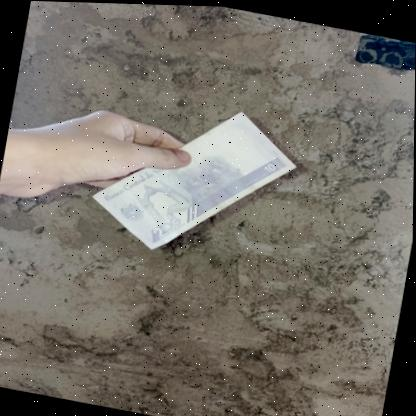ten-back-vef: (85, 86, 304, 272)
